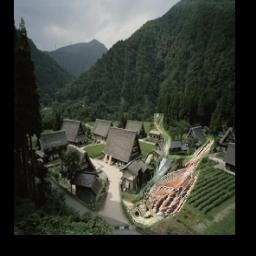Sparrow: (121, 113, 214, 227)
